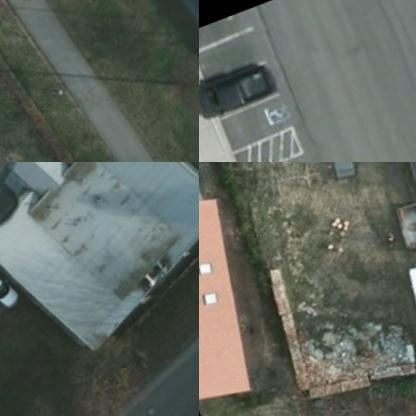car: (0, 247, 22, 318)
pickup: (199, 63, 279, 124)
